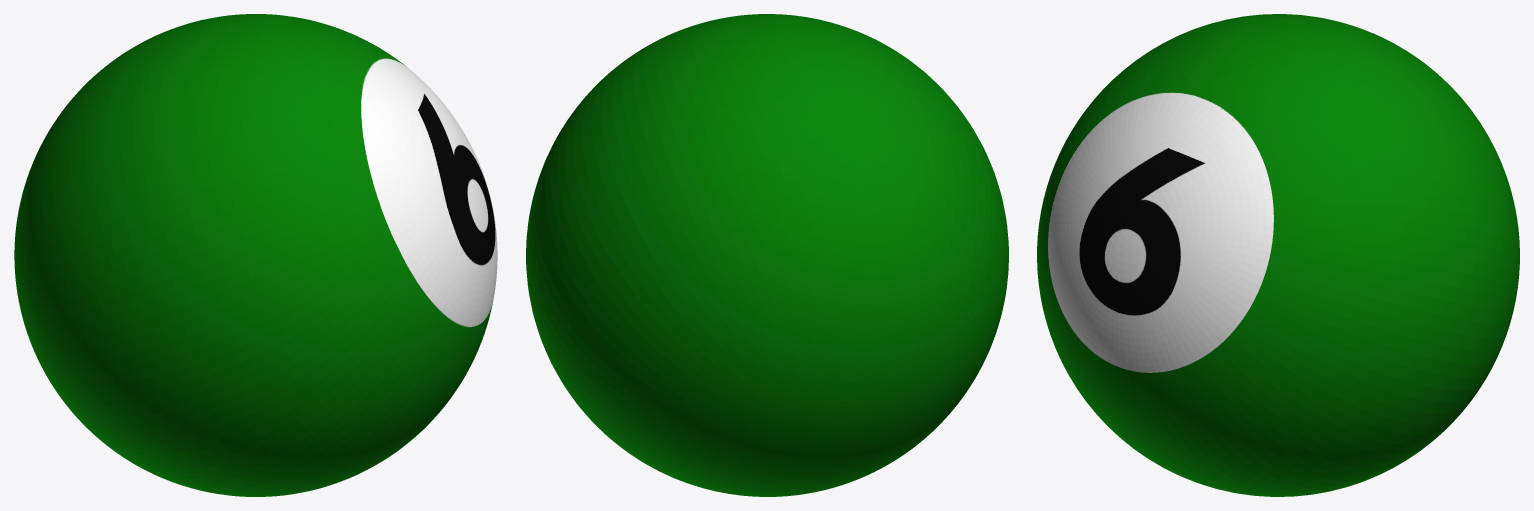
3 views of the same model, side by side, from view 1: azimuth 30°, elevation 25°; view 2: azimuth 150°, elevation 25°; view 3: azimuth 270°, elevation 25° (orthographic).
Parts seen in each view (by area): view 1: Sphere; view 2: Sphere; view 3: Sphere.
Boxes of the visible parts, <box> form: Sphere: <box>14,14,497,496</box>; Sphere: <box>526,14,1008,496</box>; Sphere: <box>1037,14,1519,496</box>.
Size of the model in its own units: 3.7 by 3.7 by 3.7.
Materials: 1 (1 with a texture image).
